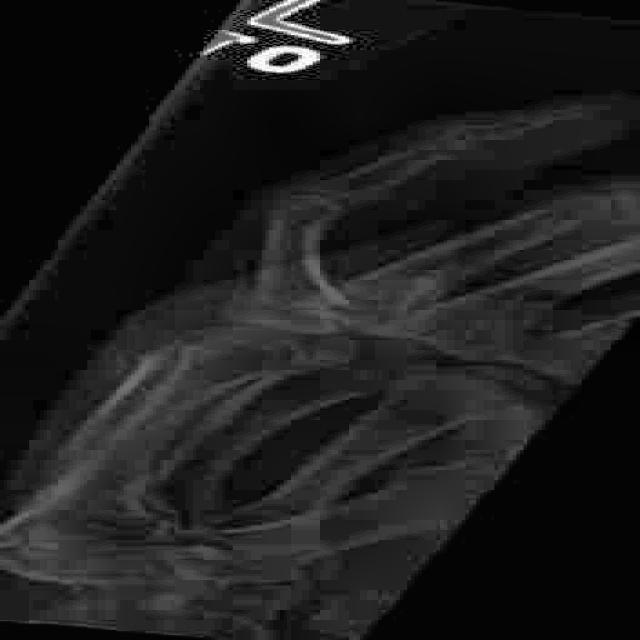fingers positive: (185, 267, 390, 340)
